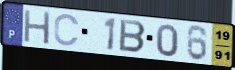0: (155, 22, 181, 59)
1: (101, 16, 118, 52)
6: (186, 23, 208, 62)
B: (117, 17, 148, 54)
C: (53, 13, 81, 48)
H: (23, 8, 53, 46)
